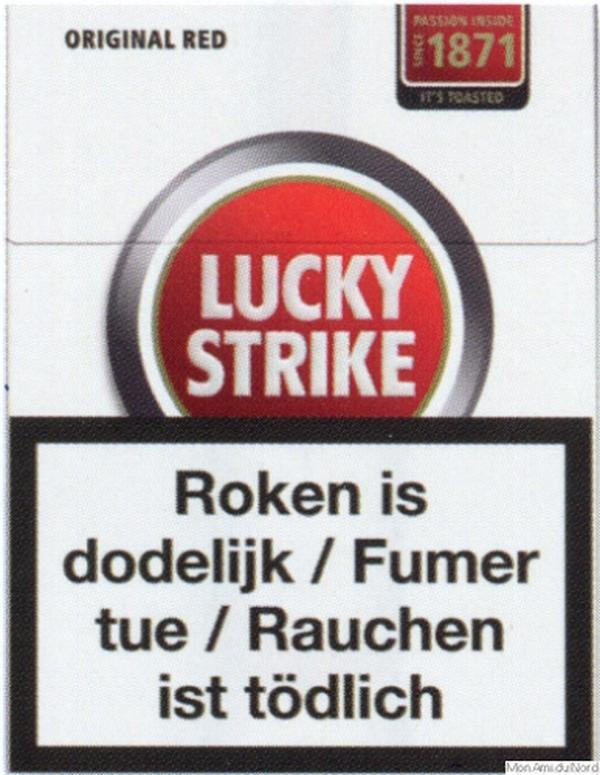lucky_strike_red: (5, 4, 594, 773)
